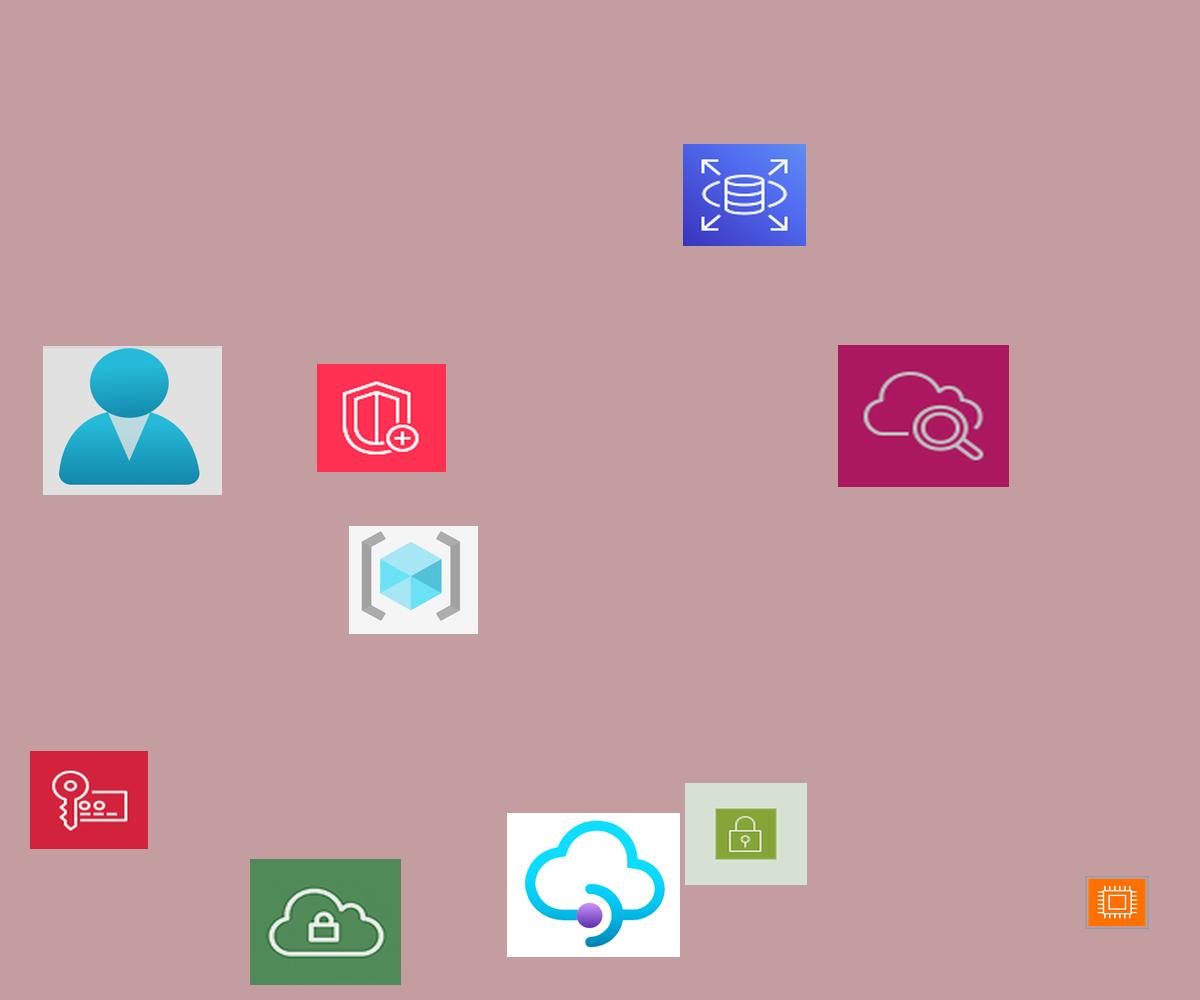AWS-Category_Compute: (1085, 876, 1149, 929)
AWS-CloudWatch: (838, 345, 1009, 487)
AWS-Key-Management-Service: (30, 751, 148, 849)
AWS-Private_vpc: (250, 859, 401, 985)
AWS-Public-subnet: (685, 783, 807, 885)
AWS-RDS: (683, 144, 806, 246)
AWS-Shield: (317, 364, 446, 472)
Azure_api_gateway: (507, 813, 680, 957)
Azure_resource_group: (349, 526, 478, 634)
Azure_users: (43, 346, 222, 495)
